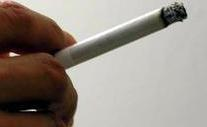smoke: (46, 1, 188, 70)
